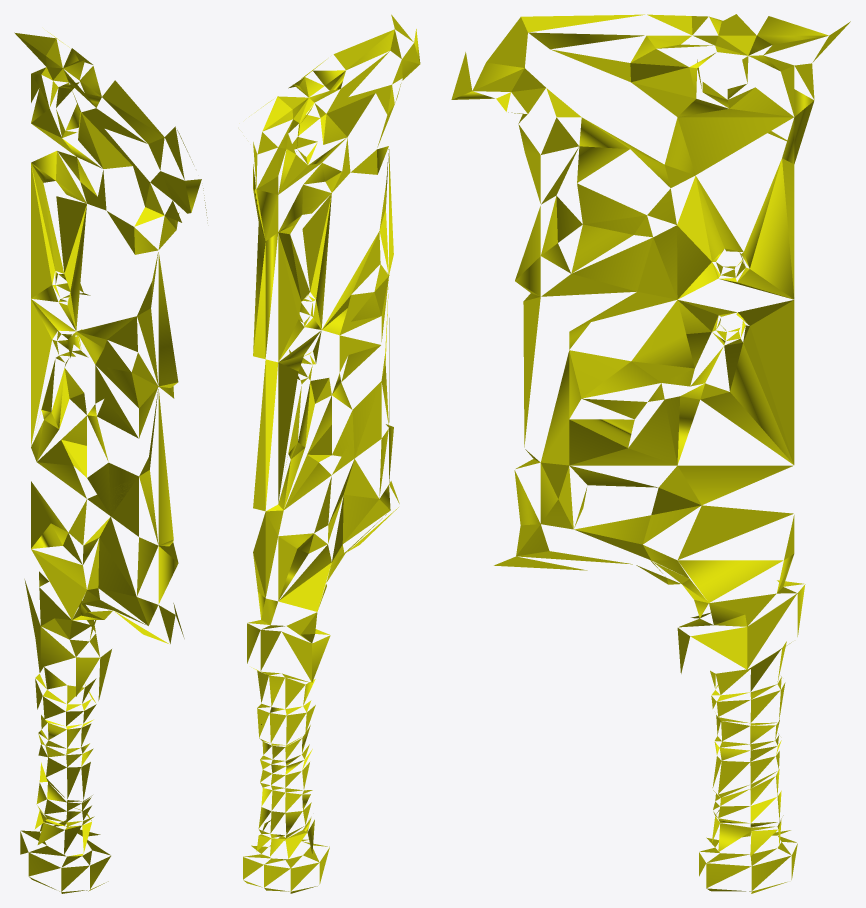
Rendered from SM_Wep_PigButcher_01.glb.
3 views of the same model, side by side, from view 1: azimuth 30°, elevation 25°; view 2: azimuth 150°, elevation 25°; view 3: azimuth 270°, elevation 25° (orthographic). The views are drawn at different scales.
Parts seen in each view (by area): view 1: SM_Wep_PigButcher_01; view 2: SM_Wep_PigButcher_01; view 3: SM_Wep_PigButcher_01.
Boxes of the visible parts, x1=… form: SM_Wep_PigButcher_01: x1=14, y1=31, x2=207, y2=893; SM_Wep_PigButcher_01: x1=243, y1=14, x2=420, y2=893; SM_Wep_PigButcher_01: x1=451, y1=14, x2=850, y2=893.
Bounding box in the file's own units: 0.1359 × 1.5 × 0.629.
